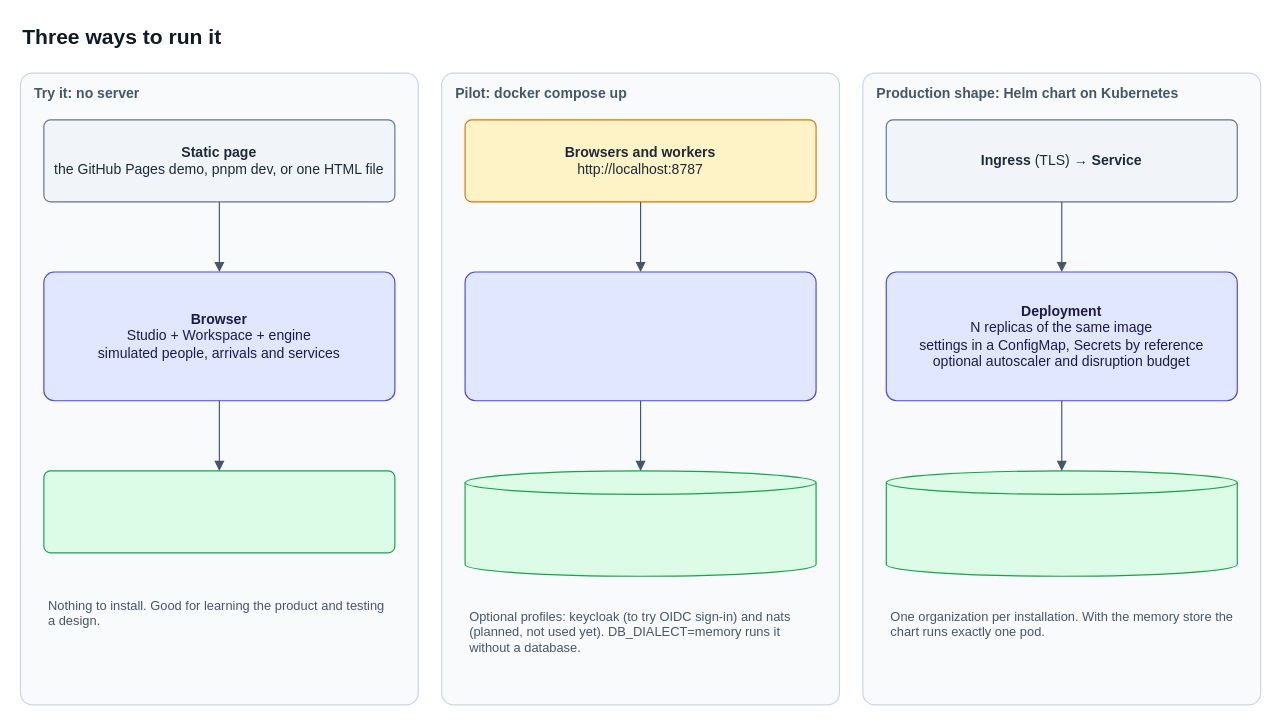
Image size: 1281x725. Some labels were removed from this diagram. Here are the shapes that lost their labels. From the top down, the centre of each, then its label:
(x=640, y=336): modus container API + Studio on port 8787 runs its migrations at startup
(x=219, y=511): Design saved in the browser
(x=640, y=523): postgres container PostgreSQL 18
(x=1061, y=523): PostgreSQL managed or operator-run DATABASE_URL from a Secret
